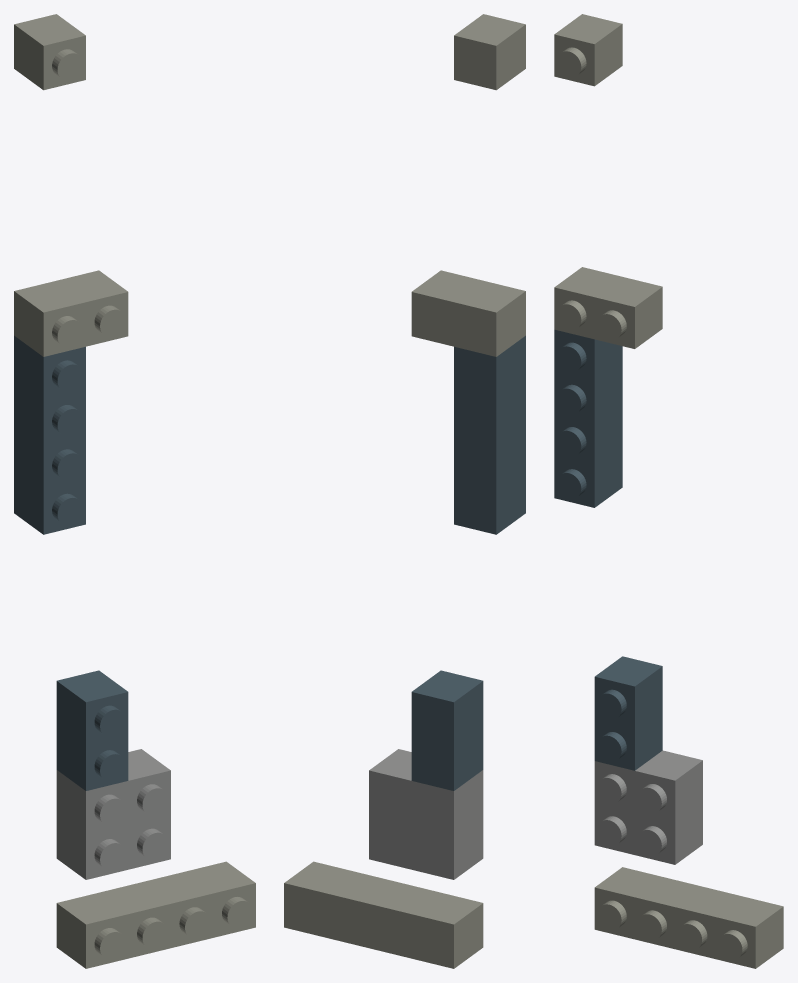
File: current.glb
3 views of the same model, side by side, from view 1: azimuth 30°, elevation 25°; view 2: azimuth 150°, elevation 25°; view 3: azimuth 330°, elevation 25° (orthographic). The views are drawn at different scales.
Visible parts, largest first — view 1: world; view 2: world; view 3: world.
Part boxes in pixels (<box>): world: <box>14,14,255,968</box>; world: <box>284,14,525,968</box>; world: <box>554,14,783,968</box>.
Bounding box in the file's own units: 40 × 168 × 11.4.
